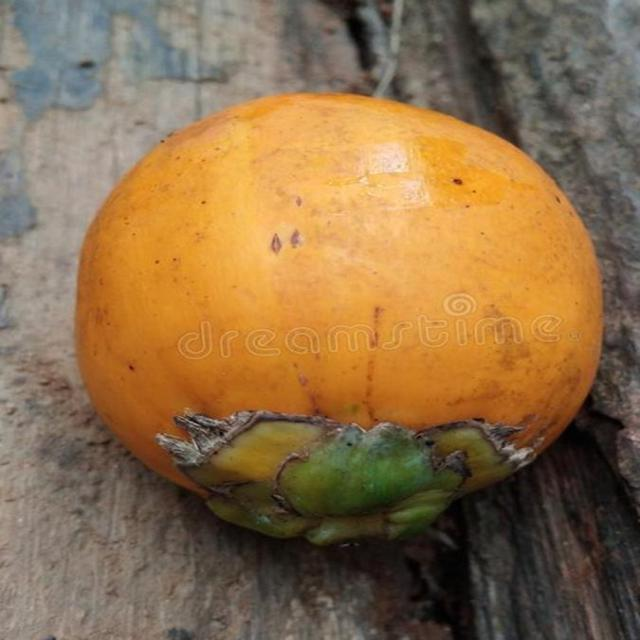good: (73, 93, 605, 550)
